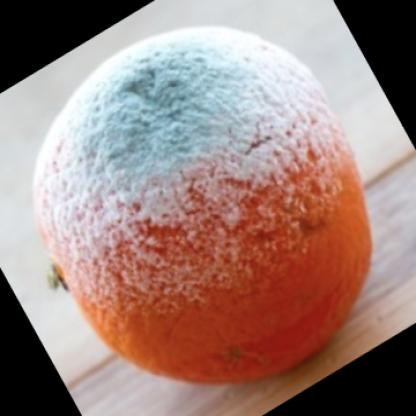rotten: (34, 26, 374, 387)
